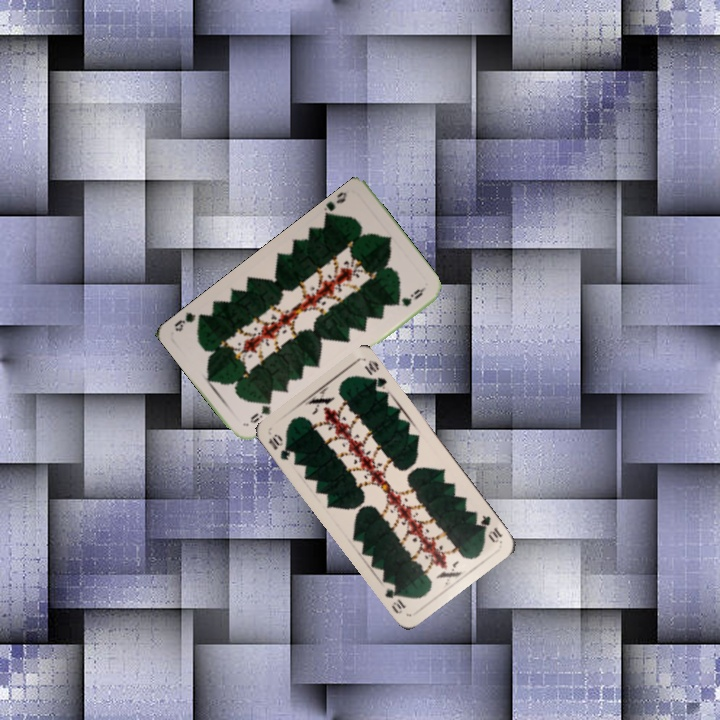G10: (264, 430, 294, 463), (476, 511, 505, 545)
G9: (320, 188, 350, 220), (246, 398, 274, 426)
